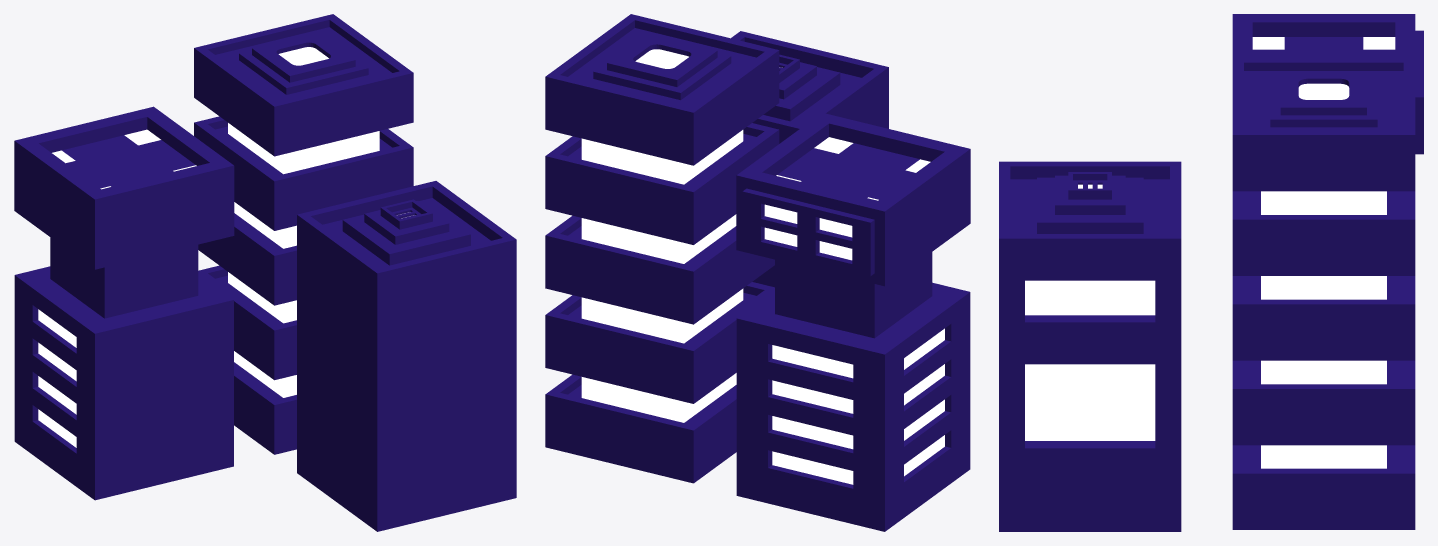
Rendered from isometric-city-with-light-emission.gltf.
3 views of the same model, side by side, from view 1: azimuth 30°, elevation 25°; view 2: azimuth 150°, elevation 25°; view 3: azimuth 270°, elevation 25° (orthographic). The views are drawn at different scales.
Visible parts, largest first — view 1: Plane.002, Plane.001, Cube, Plane; view 2: Plane.002, Cube, Plane, Plane.001; view 3: Cube, Plane.001, Plane, Plane.002.
Boxes of the visible parts, x1=… form: Plane.002: x1=14, y1=106, x2=234, y2=500; Plane.001: x1=297, y1=181, x2=516, y2=531; Cube: x1=194, y1=14, x2=413, y2=454; Plane: x1=228, y1=123, x2=379, y2=397; Plane.002: x1=736, y1=112, x2=970, y2=531; Cube: x1=545, y1=14, x2=779, y2=483; Plane: x1=581, y1=130, x2=743, y2=422; Plane.001: x1=731, y1=31, x2=888, y2=287; Cube: x1=1232, y1=58, x2=1415, y2=529; Plane.001: x1=999, y1=161, x2=1181, y2=531; Plane: x1=1261, y1=191, x2=1386, y2=468; Plane.002: x1=1232, y1=14, x2=1423, y2=154.
Size of what is drawn, in the model's own units: 4.58 by 4.89 by 4.66.
